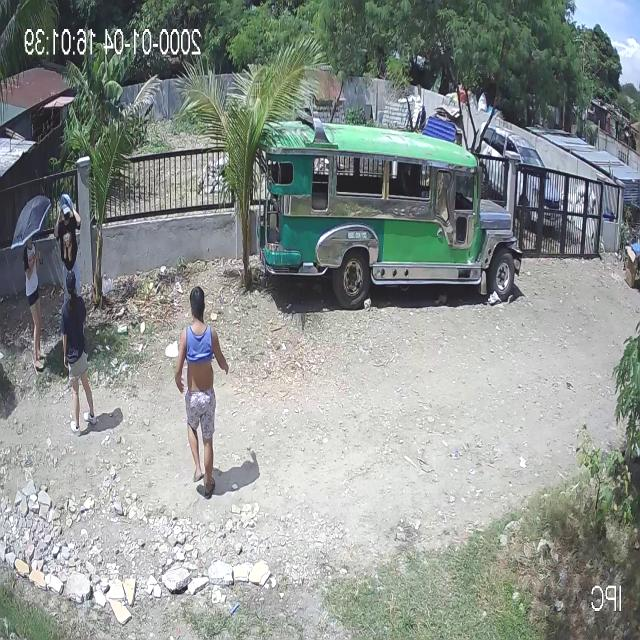standing: (60, 269, 95, 437), (22, 227, 48, 376), (55, 188, 81, 306)
walking: (175, 286, 232, 510)
